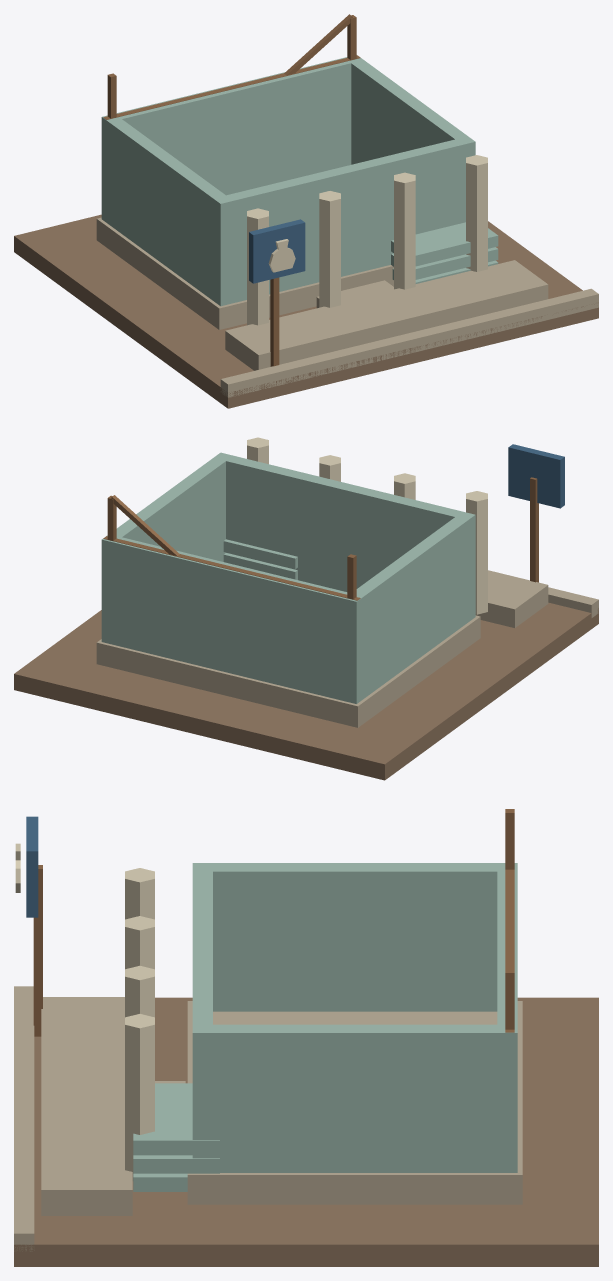
The model's file is museum-seabreeze-half-built.glb.
3 renders of one model, top to bottom at view 1: azimuth 30°, elevation 25°; view 2: azimuth 150°, elevation 25°; view 3: azimuth 270°, elevation 25°, orthographic. The views are drawn at different scales.
Visible parts, largest first — view 1: museum; view 2: museum; view 3: museum.
Boxes of the visible parts, left/top/right/bottom form: museum: left=14, top=14, right=598, bottom=408; museum: left=14, top=437, right=598, bottom=780; museum: left=14, top=809, right=598, bottom=1266.
Bounding box in the file's own units: 2.88 × 1.38 × 2.88.
